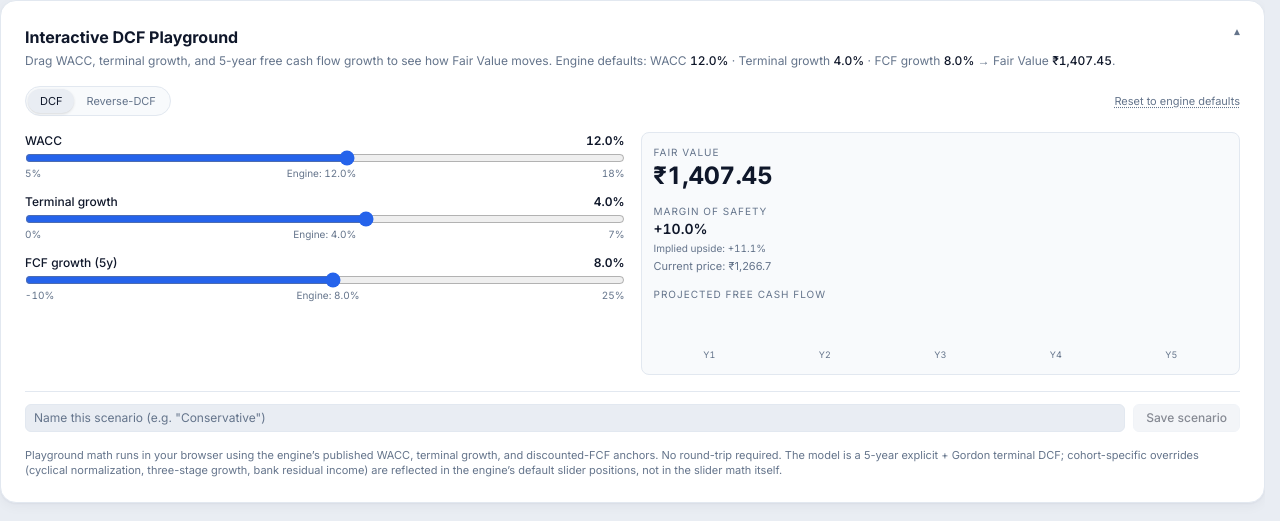
Test: InteractiveDcfPlayground — slider defaults and interactivity › surfaces the WACC > TGR clamp caption when sliders cross
The image size is (1280, 521).
Set the slider with test id "slider-wacc" to "6" at x=78, y=158, box [25,154,624,162]
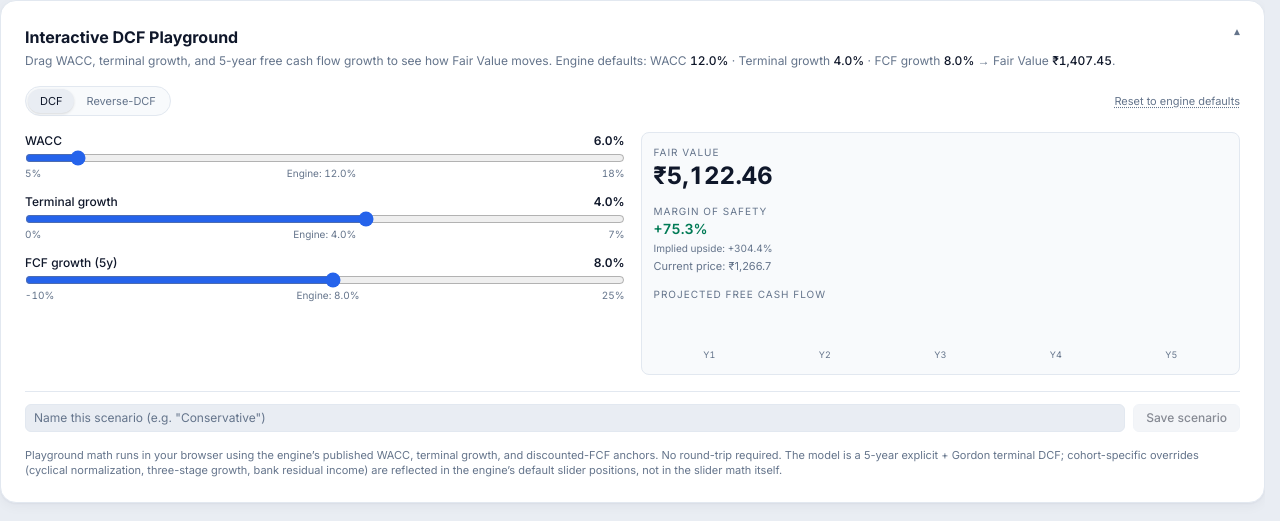
Set the slider with test id "slider-tgr" to "6" at x=533, y=219, box [25,215,624,223]
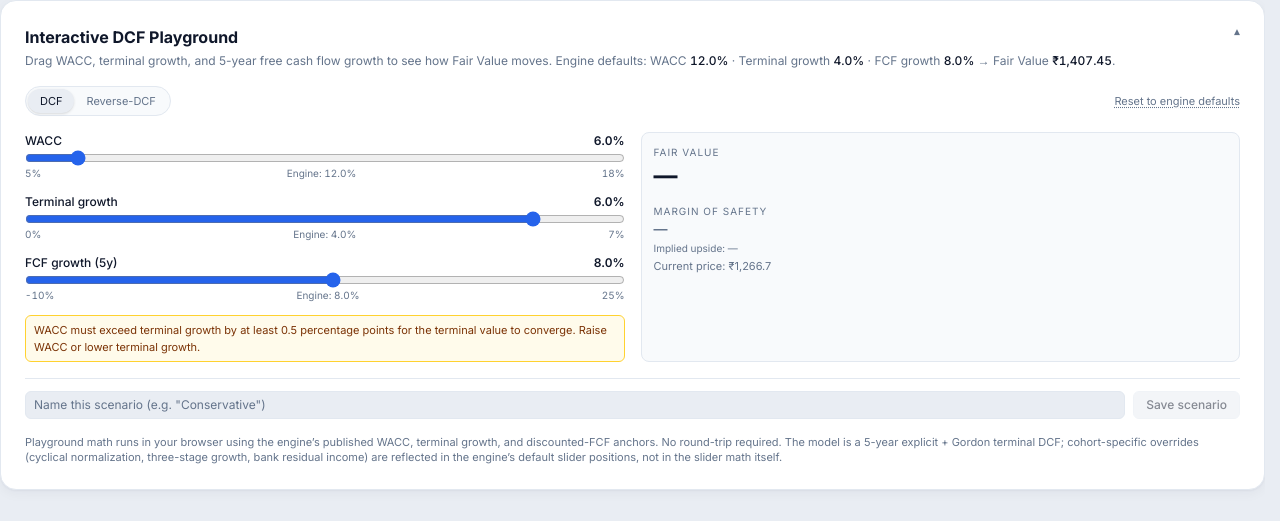
Expected: the text with test id "playground-wacc-tgr-clamp" is shown, [25,315,624,362]
